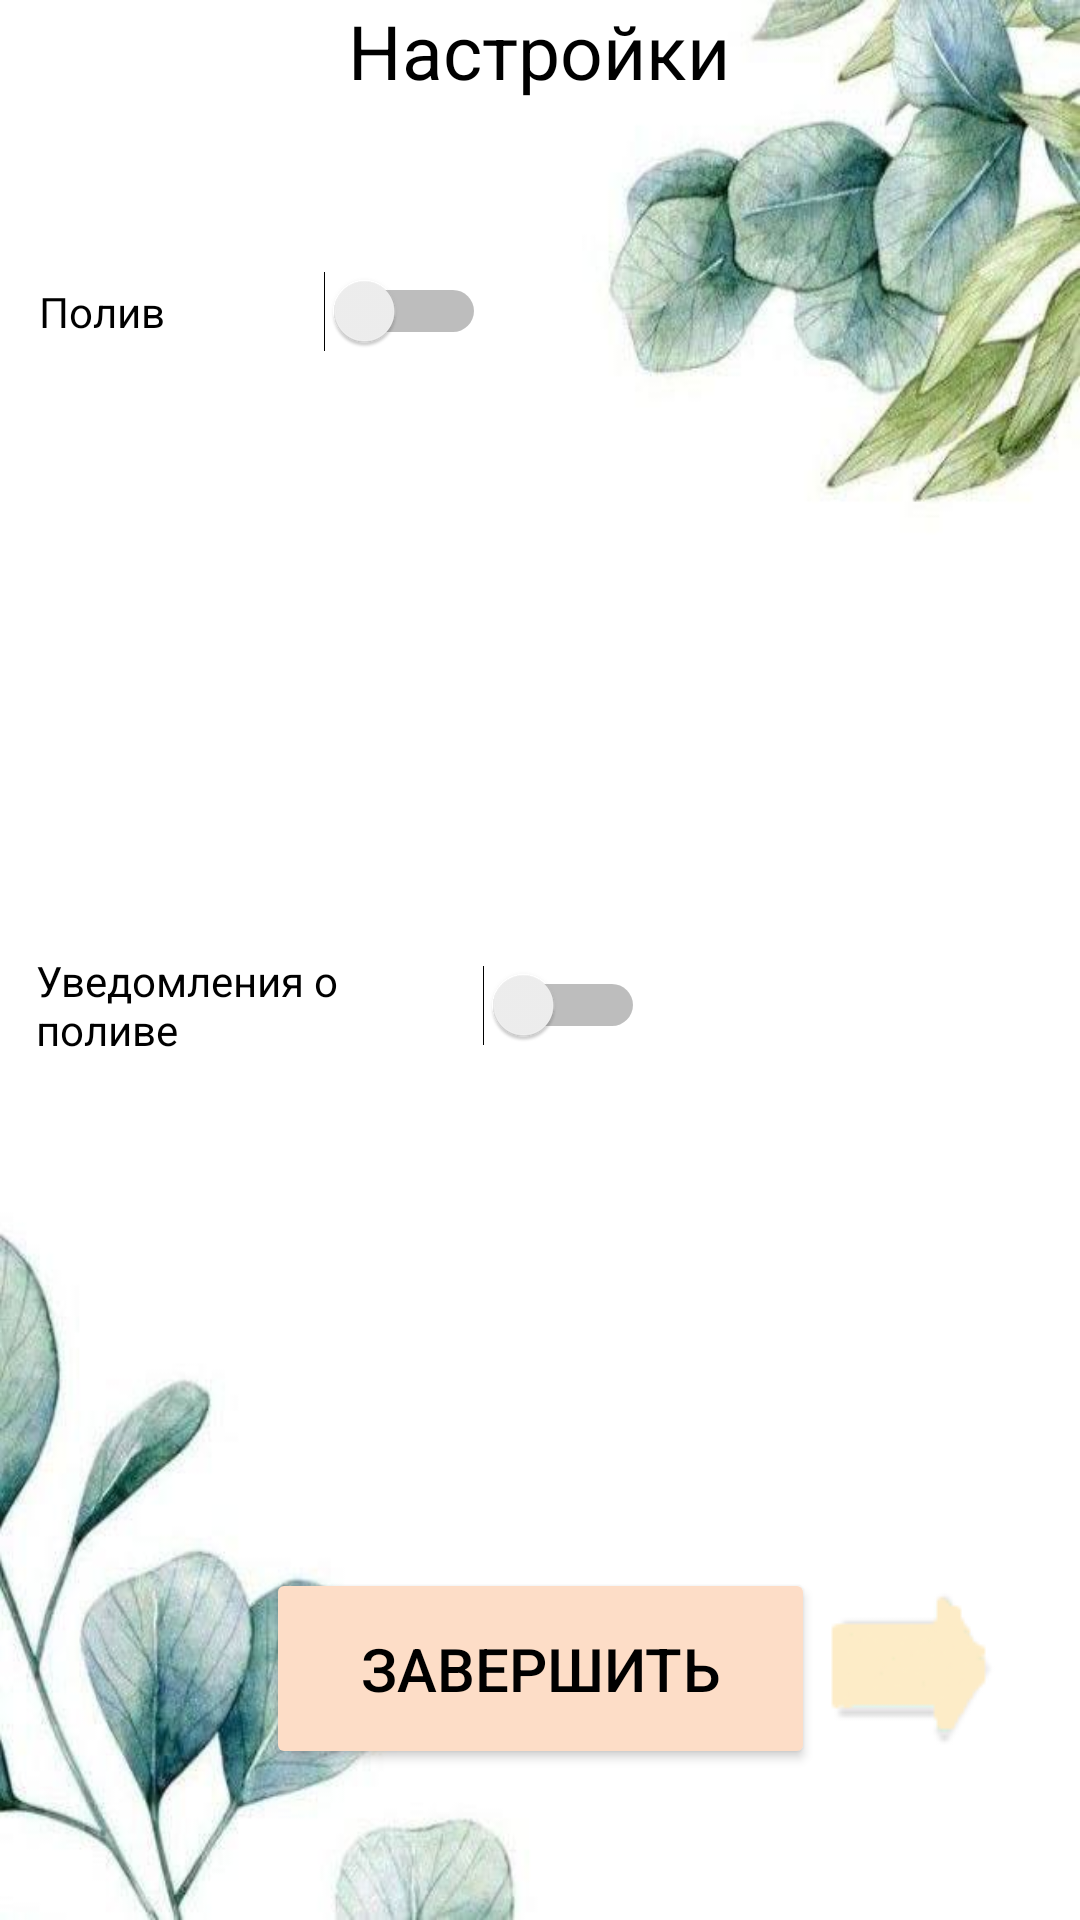

Named icons in this screenshot (1080*1920) and their bounding boxes, (x1, y1, x2, y2):
strelkavpravo: (832, 1597, 986, 1739)
